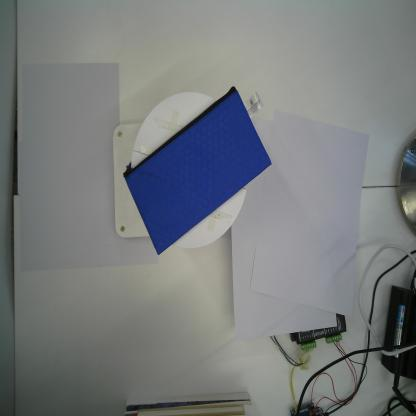Stationery: (120, 83, 273, 258)
